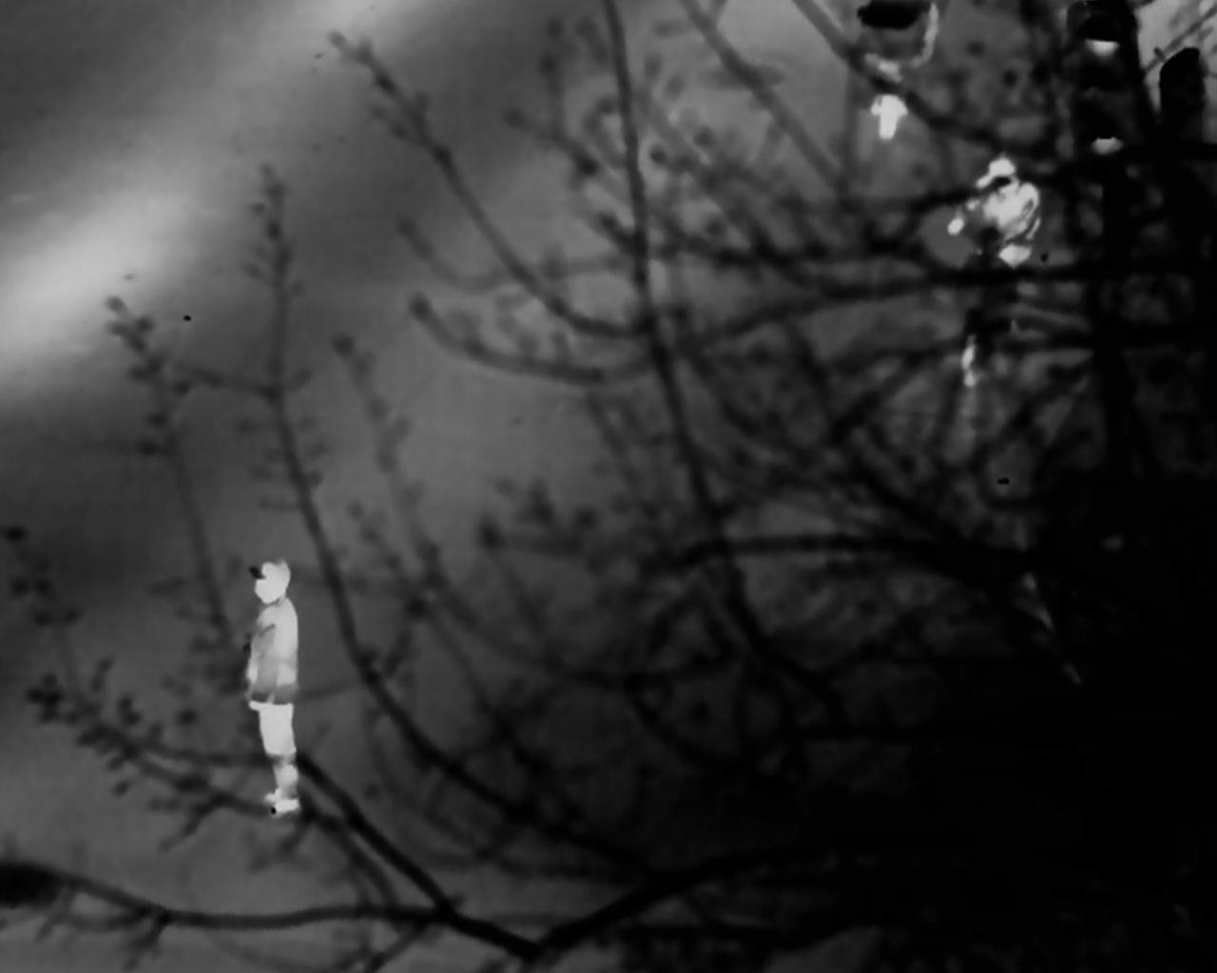person: (229, 552, 311, 809), (969, 152, 1038, 373)
